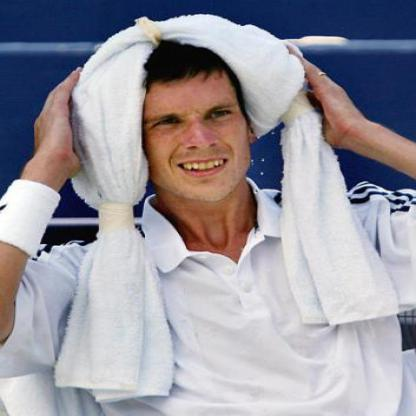face: (131, 53, 253, 207)
